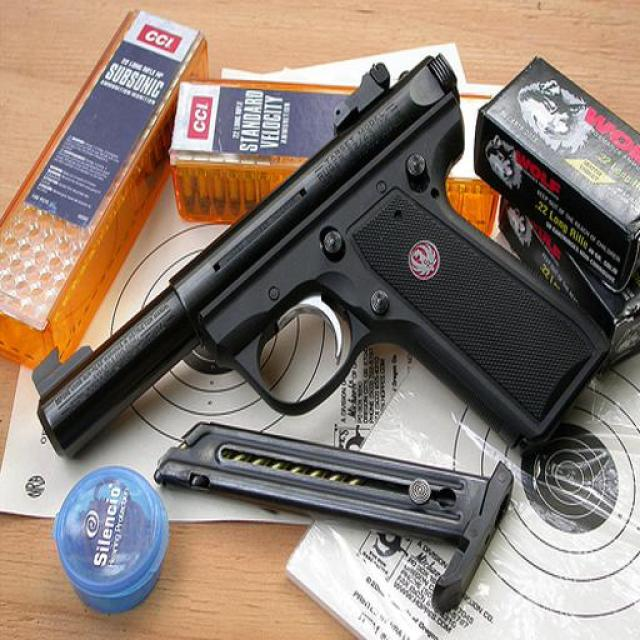pistol: (29, 53, 611, 459)
